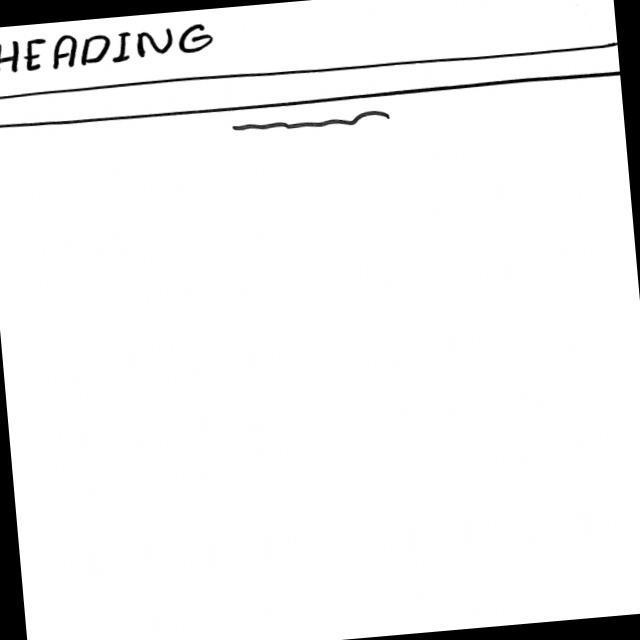container: (1, 1, 618, 103)
label: (1, 19, 219, 81)
text: (229, 110, 395, 140)
